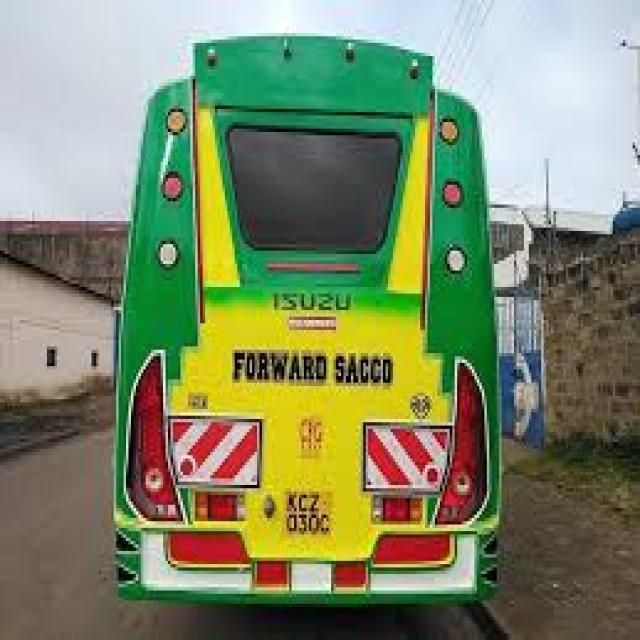bus: (95, 10, 520, 634)
